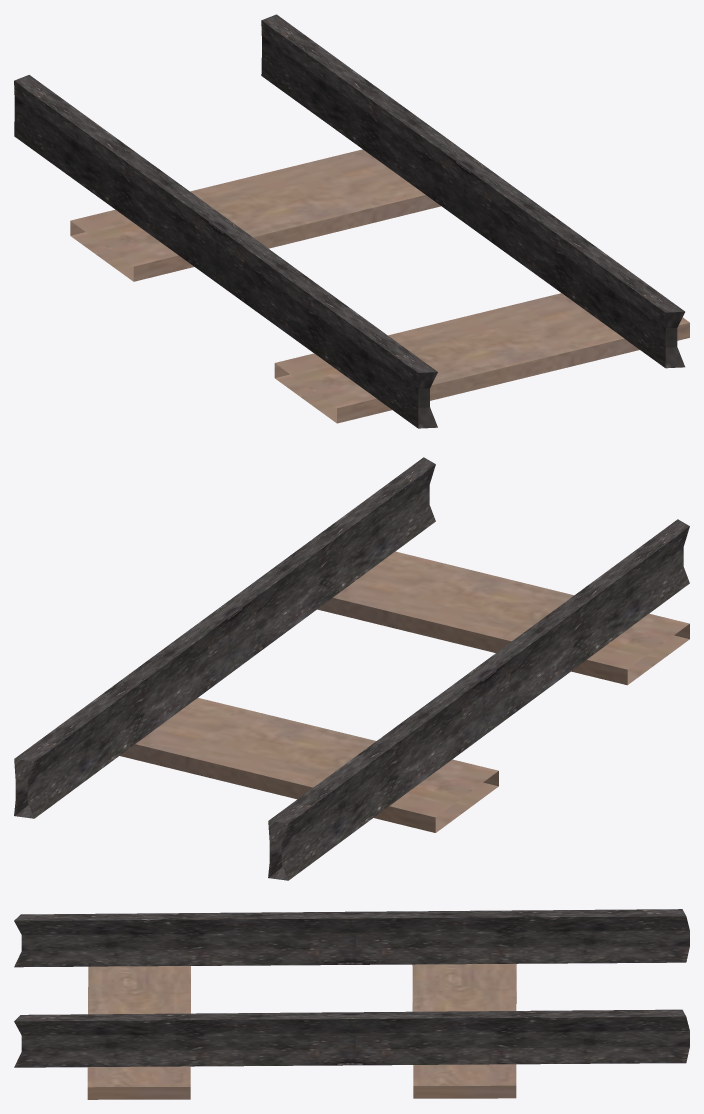
The model's file is love-death-rail-way-art.glb.
3 views of the same model, one above another, from view 1: azimuth 30°, elevation 25°; view 2: azimuth 150°, elevation 25°; view 3: azimuth 270°, elevation 25° (orthographic). The views are drawn at different scales.
Parts seen in each view (by area): view 1: LoveDeath_RailWay_Art; view 2: LoveDeath_RailWay_Art; view 3: LoveDeath_RailWay_Art.
Part boxes in pixels (x1,y1,x2,y2): LoveDeath_RailWay_Art: [14, 14, 689, 428]; LoveDeath_RailWay_Art: [14, 457, 689, 880]; LoveDeath_RailWay_Art: [14, 909, 689, 1099].
Size of the model in its own units: 1.62 by 0.314 by 3.14.
1 material, 1 textured.
